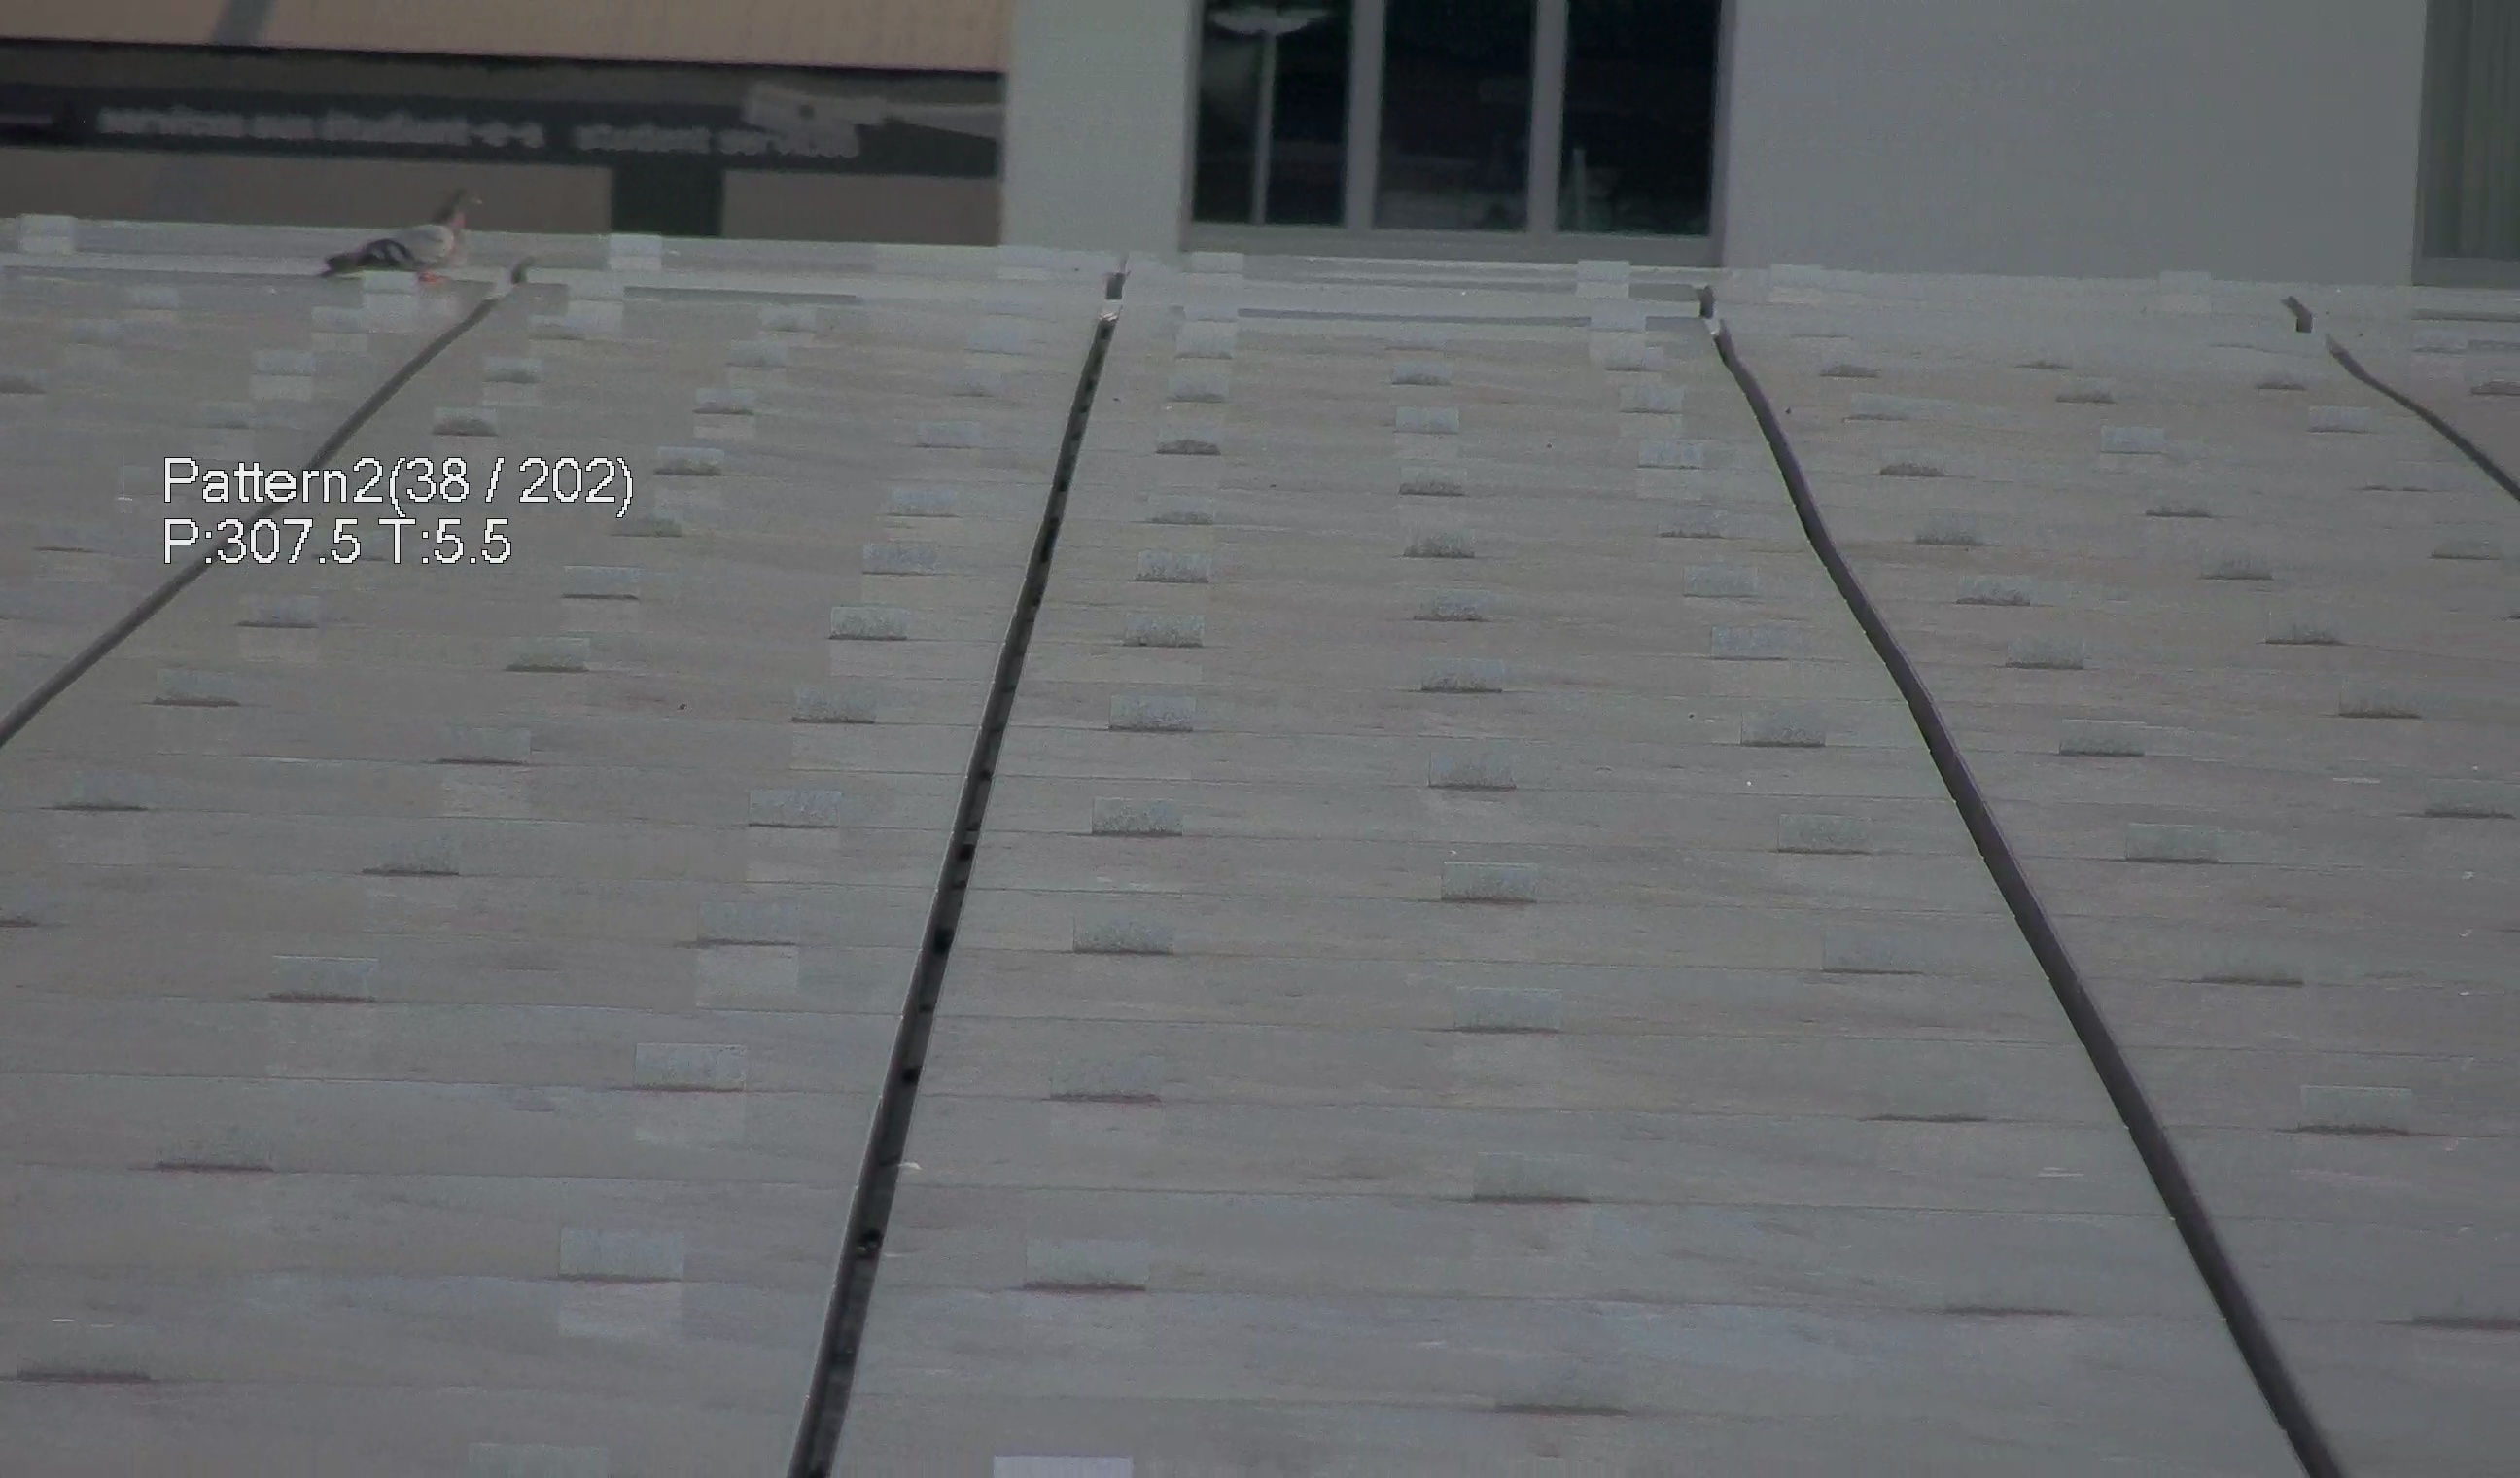Pigeon: (310, 176, 478, 287)
